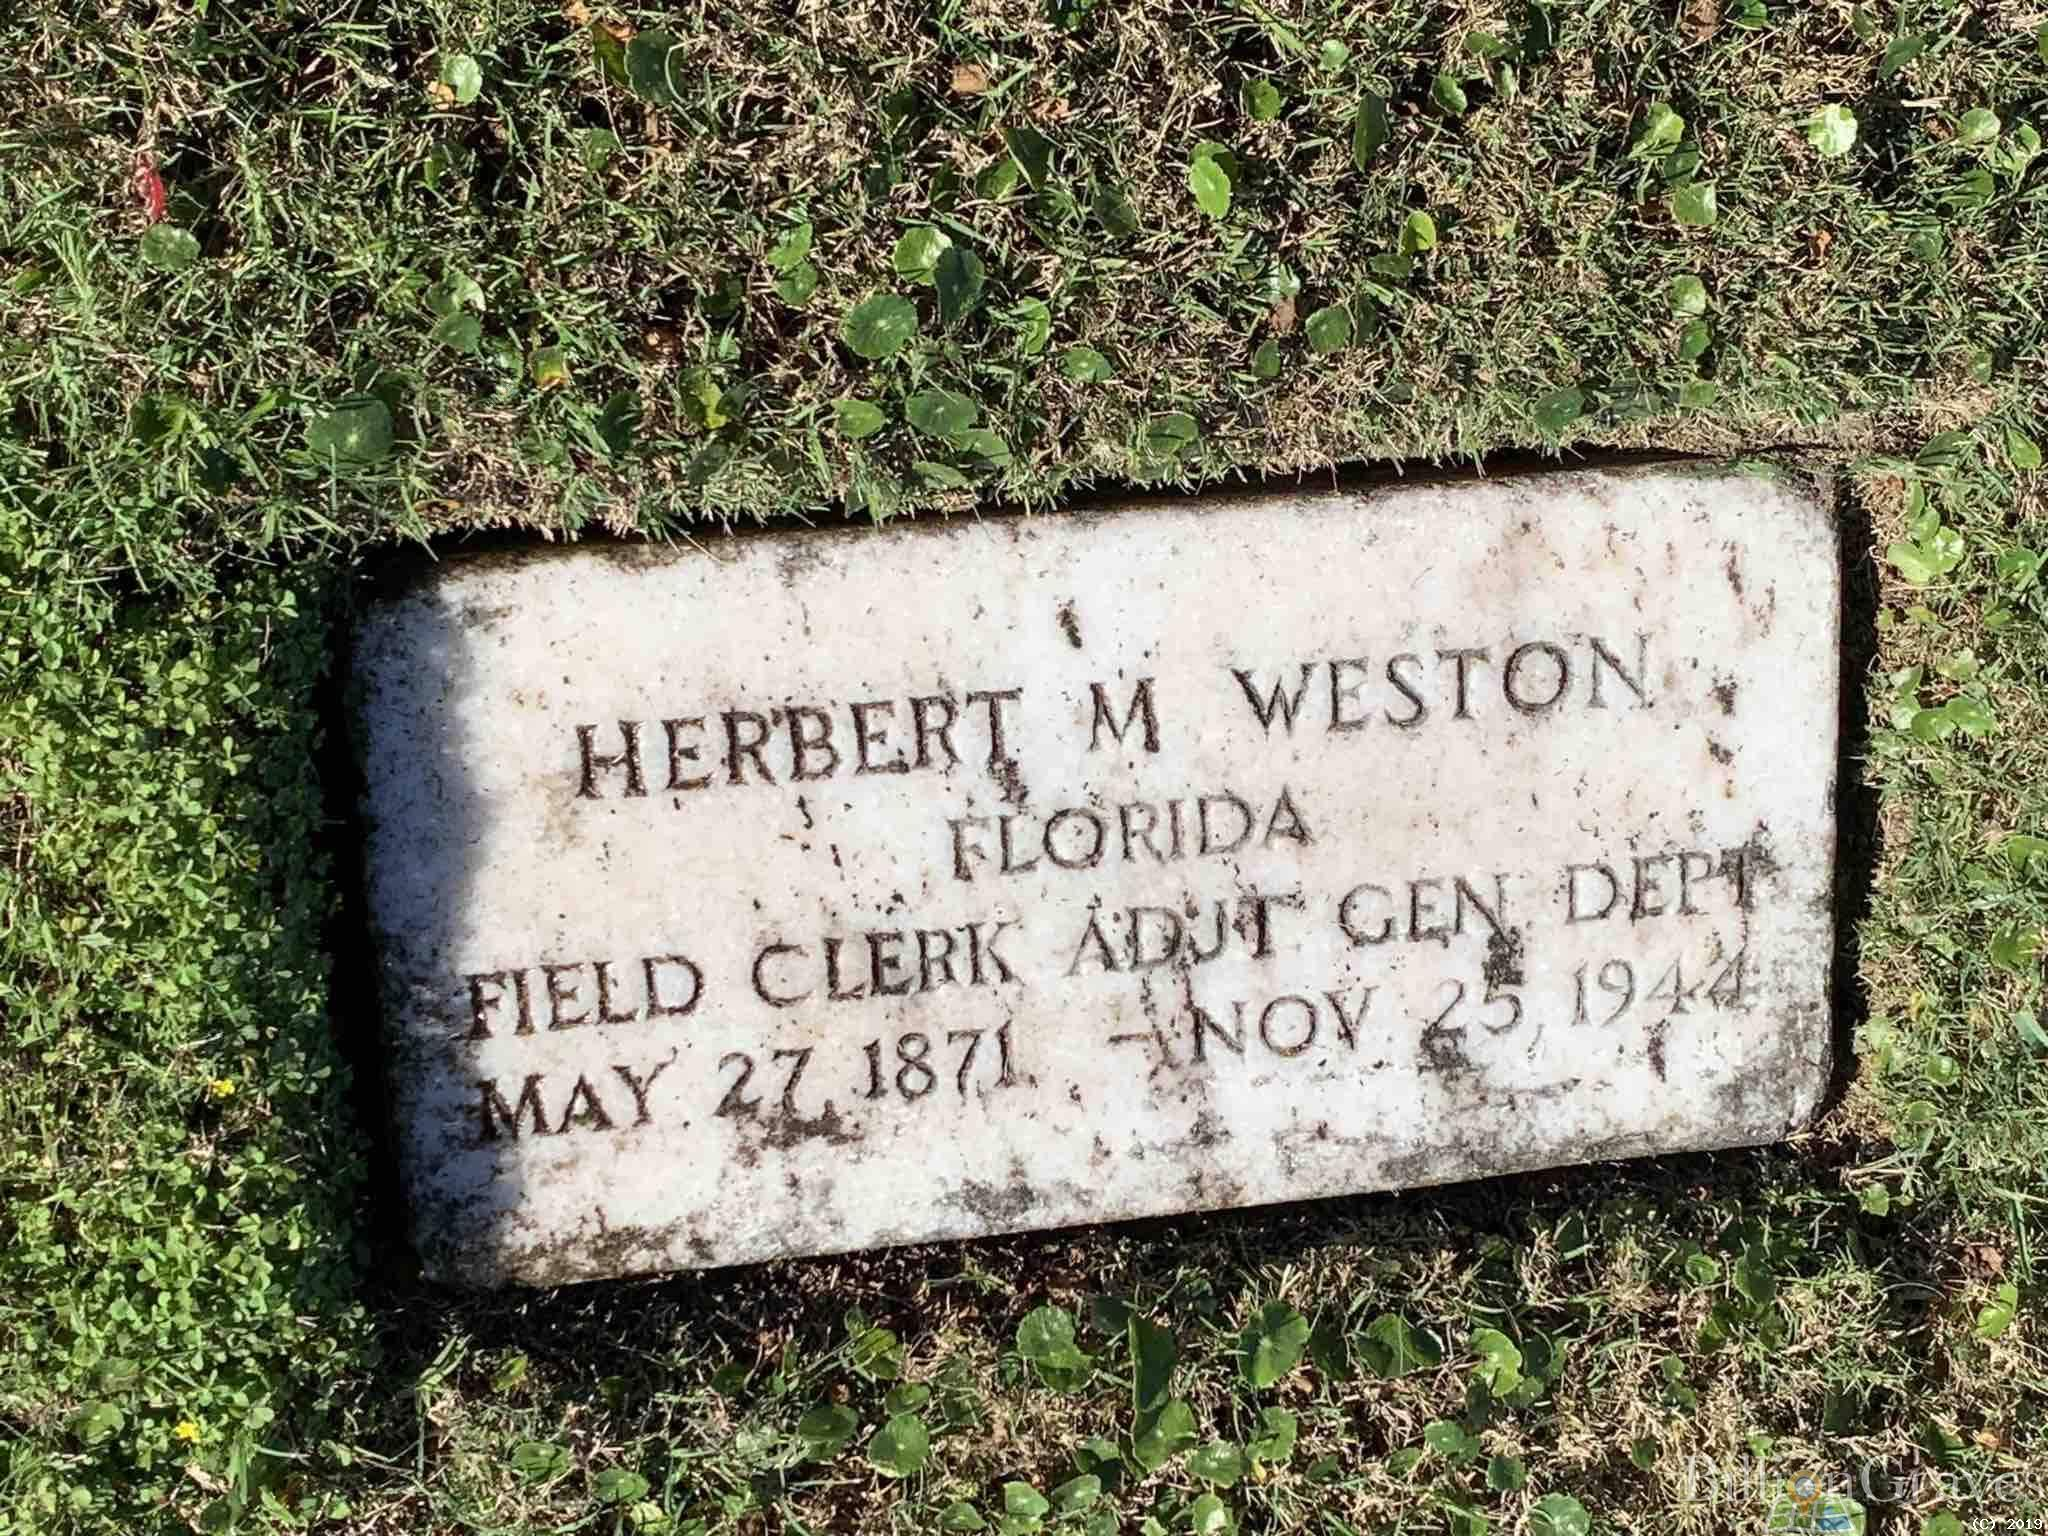flat: (285, 416, 1911, 1273)
